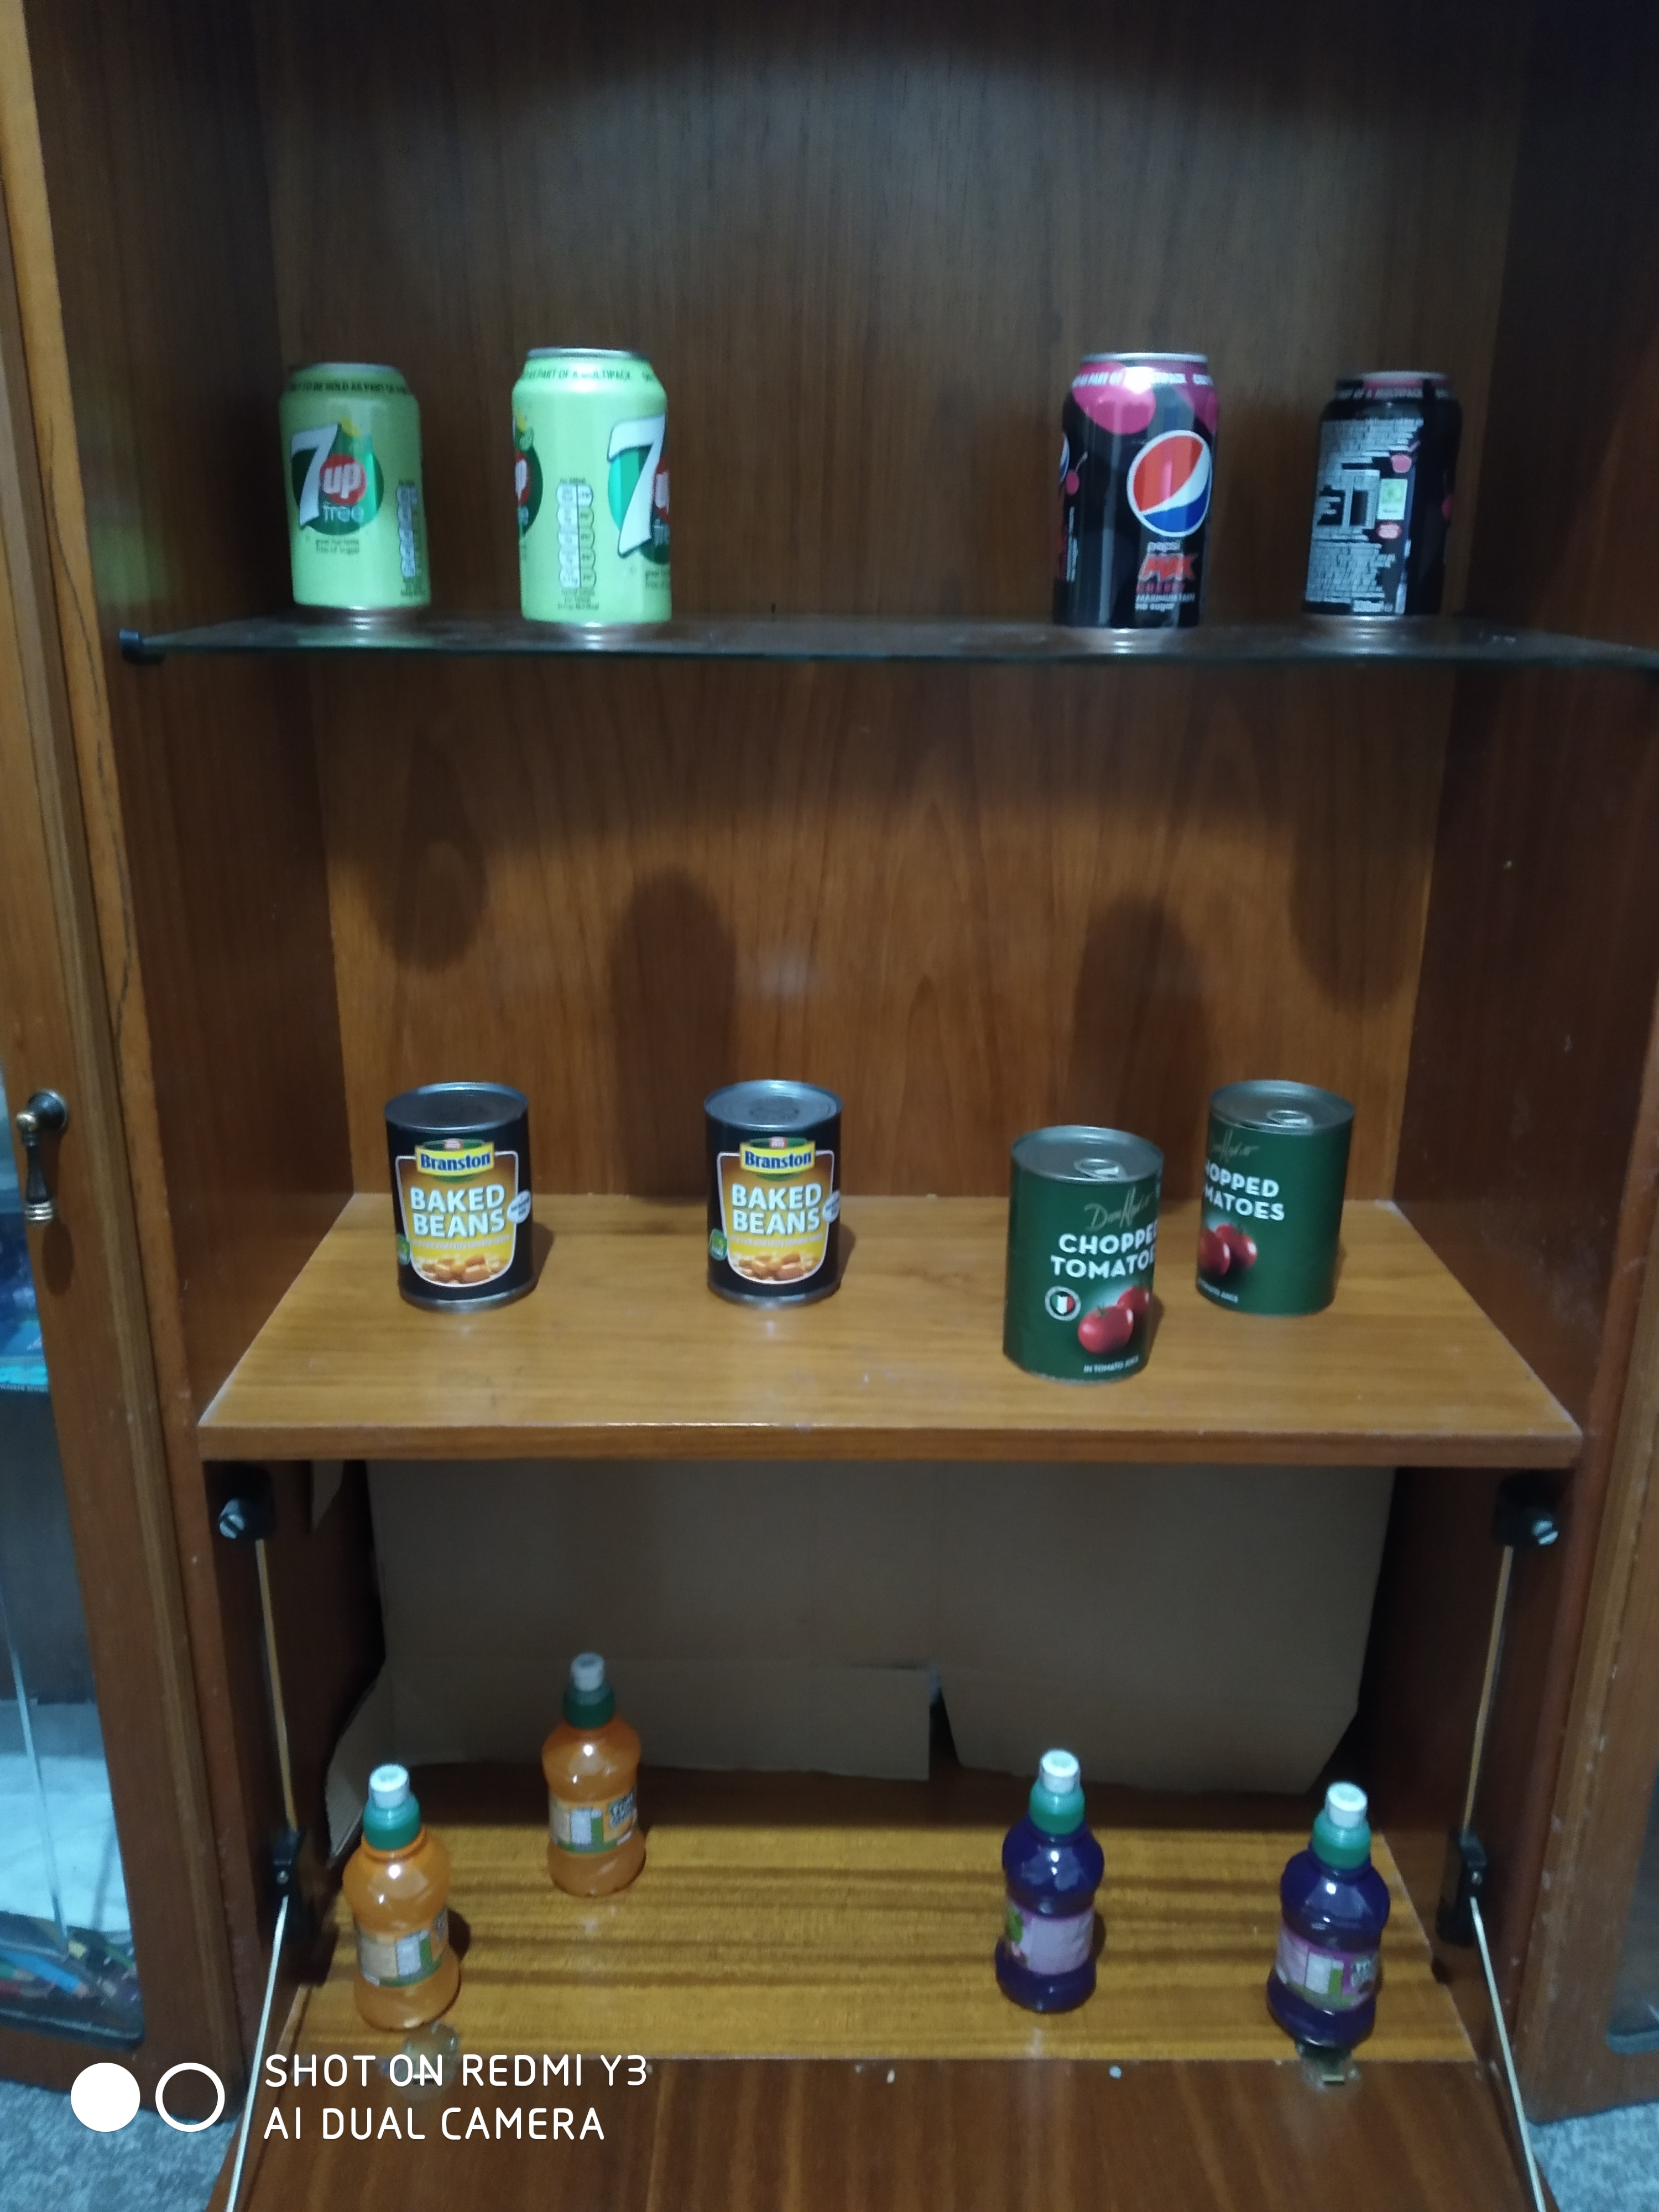sevenup: (270, 359, 436, 618)
